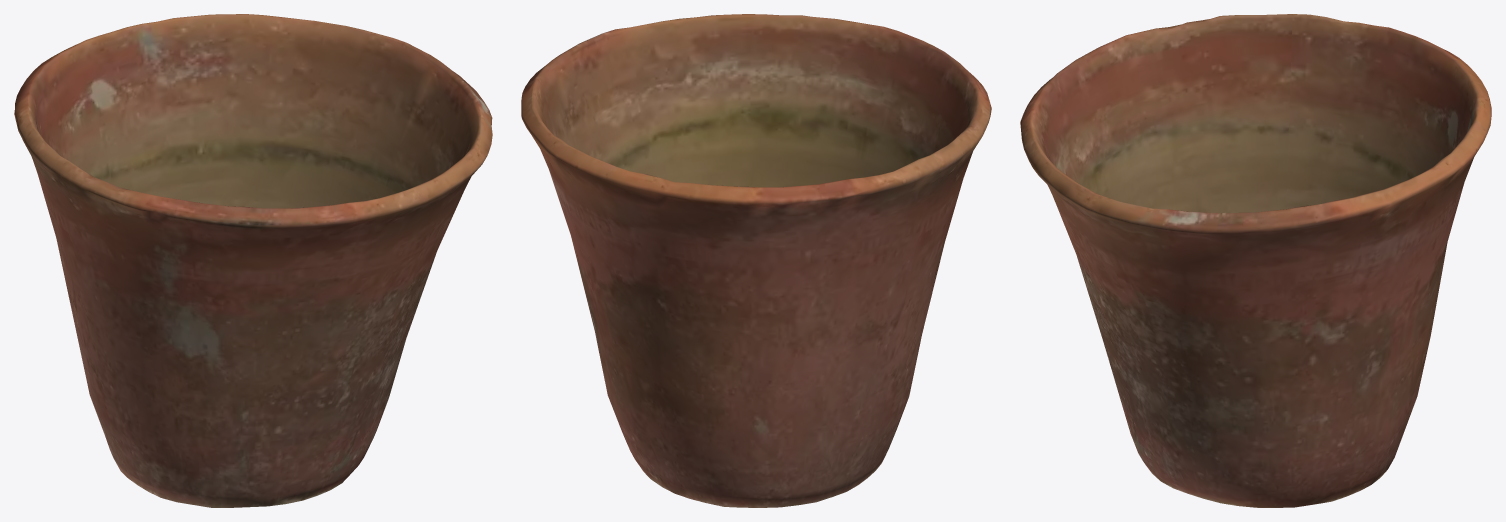
The model's file is planter_pot_clay.glb.
The picture shows the model from 3 angles, left to right: view 1: azimuth 30°, elevation 25°; view 2: azimuth 150°, elevation 25°; view 3: azimuth 270°, elevation 25°; orthographic projection.
Visible parts, largest first — view 1: planter_pot_clay; view 2: planter_pot_clay; view 3: planter_pot_clay.
Boxes of the visible parts, x1,y1,x2,y2 form: planter_pot_clay: (14,14,492,507); planter_pot_clay: (521,14,991,507); planter_pot_clay: (1020,14,1491,507).
Bounding box in the file's own units: 0.266 × 0.2219 × 0.2635.
Materials: 1 (1 with a texture image).
